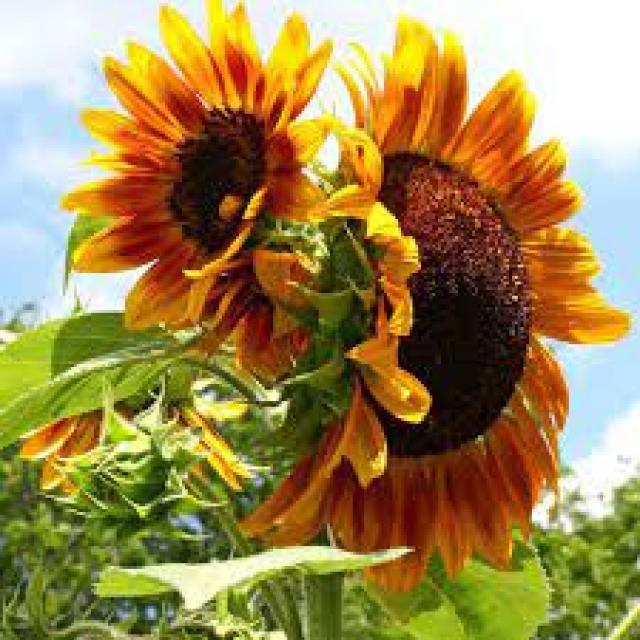sunflower: (234, 17, 632, 592), (57, 0, 350, 381), (14, 401, 259, 498)
